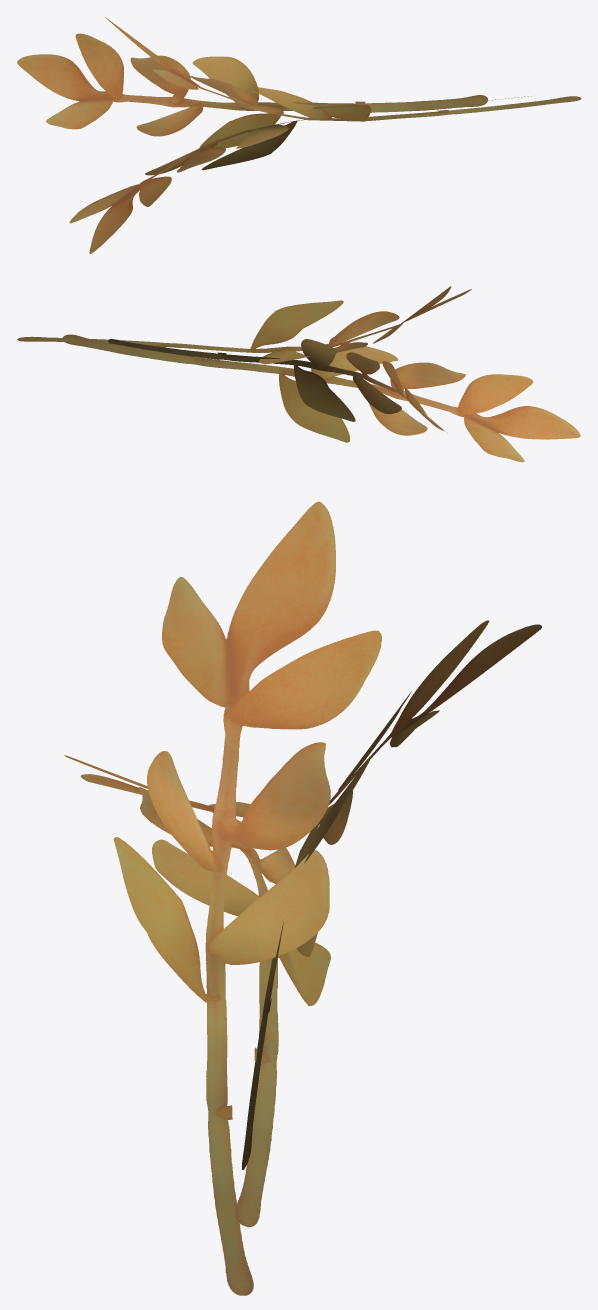
Rendered from SM_Potion_Props_Herb_03.fbx.
The picture shows the model from 3 angles, top to bottom: view 1: azimuth 30°, elevation 25°; view 2: azimuth 150°, elevation 25°; view 3: azimuth 270°, elevation 25°; orthographic projection. The views are drawn at different scales.
Parts seen in each view (by area): view 1: SM_Potion_Props_Herb_03_LOD0; view 2: SM_Potion_Props_Herb_03_LOD0; view 3: SM_Potion_Props_Herb_03_LOD0.
Part boxes in pixels (<box>): SM_Potion_Props_Herb_03_LOD0: <box>17,16,581,254</box>; SM_Potion_Props_Herb_03_LOD0: <box>17,286,580,462</box>; SM_Potion_Props_Herb_03_LOD0: <box>64,501,541,1295</box>.
Size of what is drawn, in the model's own units: 52.22 by 17.22 by 21.22.
